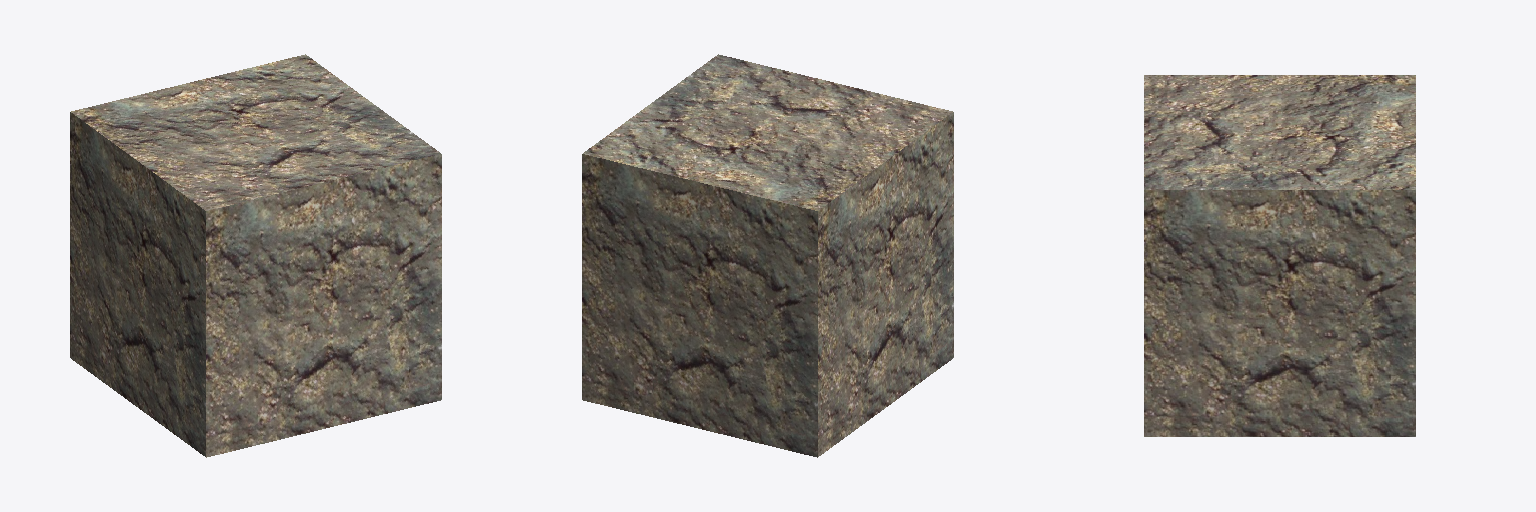
The picture shows the model from 3 angles: view 1: azimuth 30°, elevation 25°; view 2: azimuth 150°, elevation 25°; view 3: azimuth 270°, elevation 25°; orthographic projection.
Parts seen in each view (by area): view 1: cube; view 2: cube; view 3: cube.
Part boxes in pixels (left/top/right/bottom): cube: left=70, top=54, right=441, bottom=457; cube: left=582, top=54, right=953, bottom=457; cube: left=1144, top=75, right=1415, bottom=436.
Bounding box in the file's own units: 1 × 1 × 1.
1 materials, 1 textured.